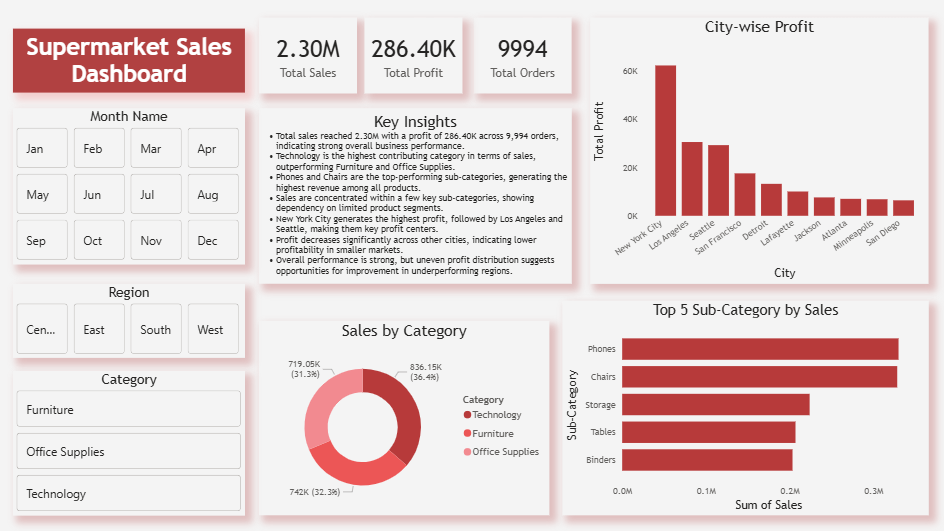

The page's visual inventory and layout, read from the dashboard file:
{"tool":"powerbi","page":{"name":"dashboard","canvas":[1280,720],"ordinal":0},"visuals":[{"type":"card","fields":{"Values":["cleaned_superstore.total sales"]},"box":[350,25,132.5,102.5],"z":0},{"type":"donutChart","title":"Sales by Category","fields":{"Category":["cleaned_superstore.Category"],"Y":["Sum(cleaned_superstore.Sales)"]},"box":[350,435,392.5,262.5],"z":1000},{"type":"clusteredBarChart","title":"Top 5 Sub-Category by Sales","fields":{"Category":["cleaned_superstore.Sub-Category"],"Y":["Sum(cleaned_superstore.Sales)"]},"box":[760,407.5,495,290],"z":2000},{"type":"columnChart","title":"City-wise Profit","fields":{"Category":["cleaned_superstore.City"],"Y":["cleaned_superstore.Total Profit"]},"box":[797.5,25,457.5,360],"z":3000},{"type":"card","fields":{"Values":["cleaned_superstore.Total Orders"]},"box":[640,25,132.5,102.5],"z":4000},{"type":"card","fields":{"Values":["cleaned_superstore.Total Profit"]},"box":[492.5,25,132.5,102.5],"z":5000},{"type":"textbox","box":[350,147.5,422.5,237.5],"z":6000},{"type":"textbox","box":[18.2,40.9,313.6,86.4],"z":7000},{"type":"advancedSlicerVisual","fields":{"Values":["cleaned_superstore.Month Name"]},"box":[18.2,147.7,313.6,211.4],"z":8000},{"type":"advancedSlicerVisual","fields":{"Values":["cleaned_superstore.Region"]},"box":[18.2,384.1,313.6,100],"z":9000},{"type":"advancedSlicerVisual","fields":{"Values":["cleaned_superstore.Category"]},"box":[18.2,502.3,313.6,195.5],"z":10000}]}

Visuals, with their boxes in screenshot pixels (x1, y1, x2, y2), scaled from the page's 1280x720 canvas onto the 944x531 screenshot:
card - cleaned_superstore.total sales: box=[258, 18, 356, 94]
"Sales by Category" donutChart: box=[258, 321, 548, 514]
"Top 5 Sub-Category by Sales" clusteredBarChart: box=[560, 301, 926, 514]
"City-wise Profit" columnChart: box=[588, 18, 926, 284]
card - cleaned_superstore.Total Orders: box=[472, 18, 570, 94]
card - cleaned_superstore.Total Profit: box=[363, 18, 461, 94]
textbox: box=[258, 109, 570, 284]
textbox: box=[13, 30, 245, 94]
advancedSlicerVisual - cleaned_superstore.Month Name: box=[13, 109, 245, 265]
advancedSlicerVisual - cleaned_superstore.Region: box=[13, 283, 245, 357]
advancedSlicerVisual - cleaned_superstore.Category: box=[13, 370, 245, 515]
